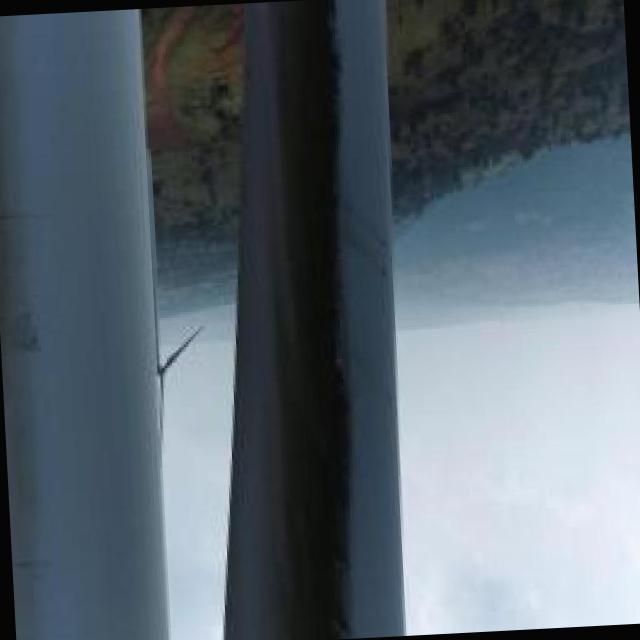Dirt: (246, 2, 353, 637)
